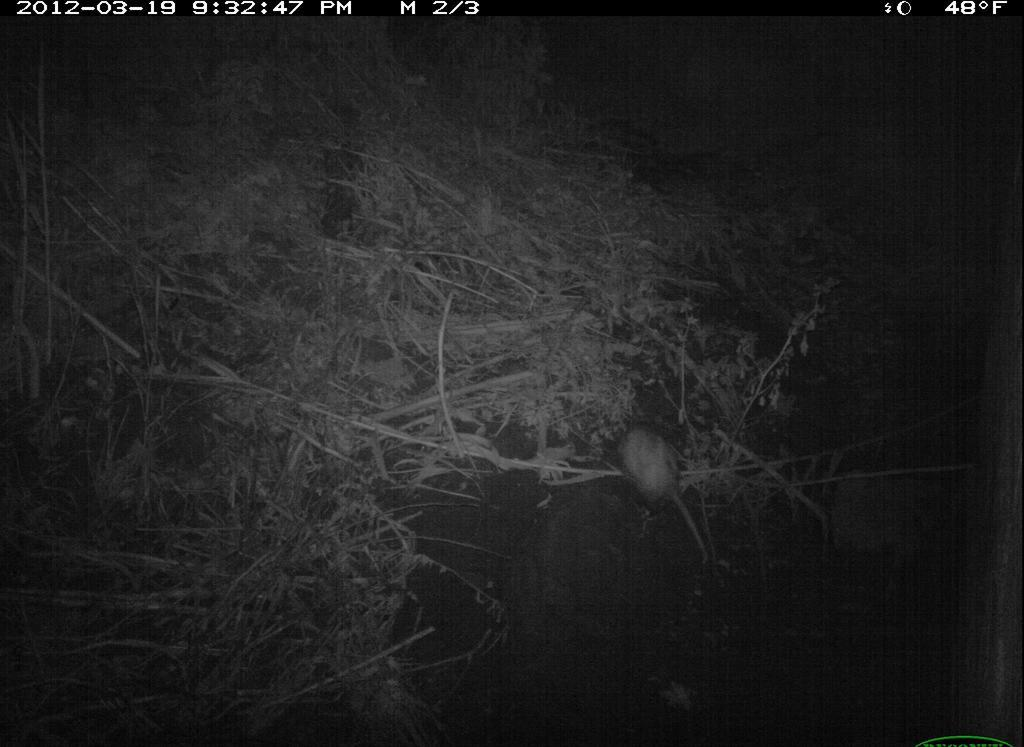opossum: (614, 417, 719, 573)
